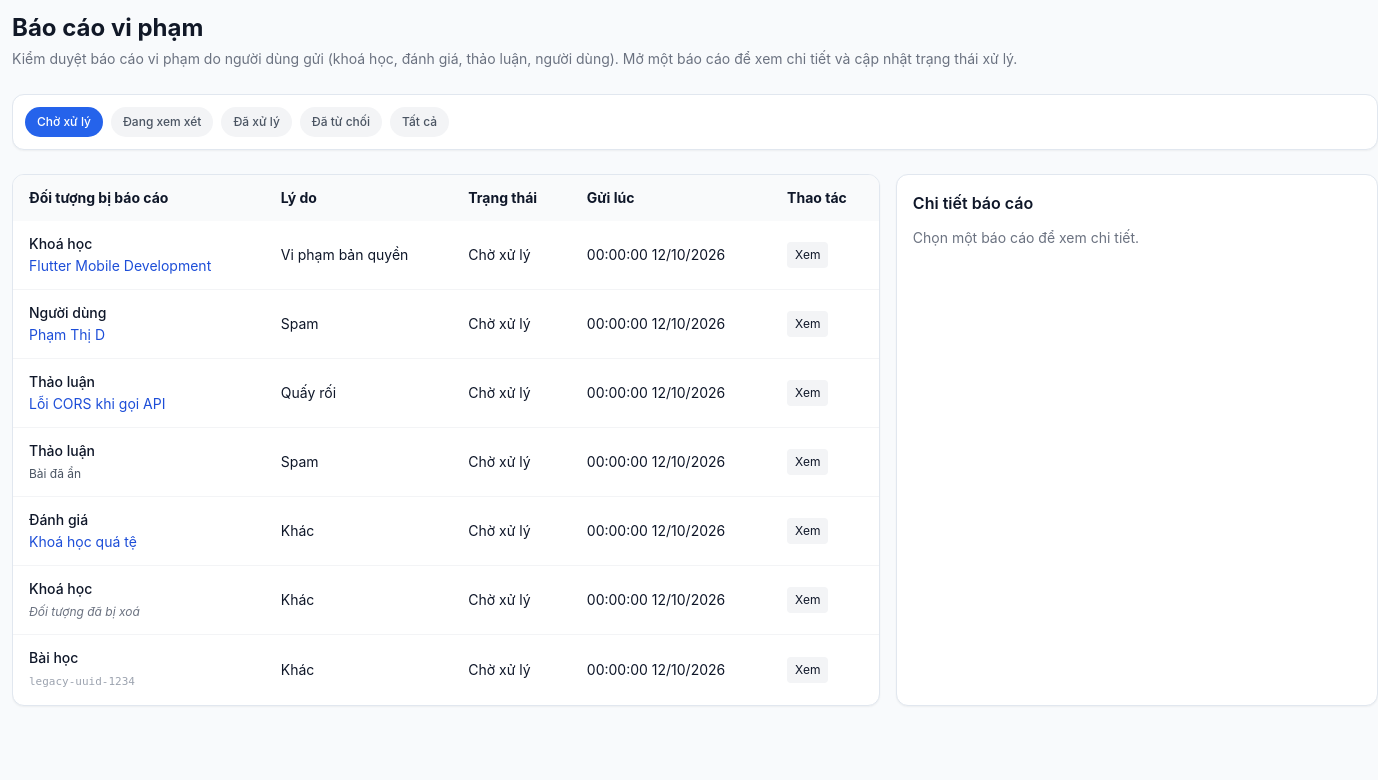
Scenario: /admin/moderation — hành động trên đối tượng (ADM-N4) › các nút trạng thái cũ vẫn còn (đánh dấu đã xử lý / từ chối)
Expected: the link "Flutter Mobile Development" is shown, [29,257,211,274]
Click the button "Xem" in the row of "Flutter Mobile Development" at point(808, 255), box [787,242,828,268]
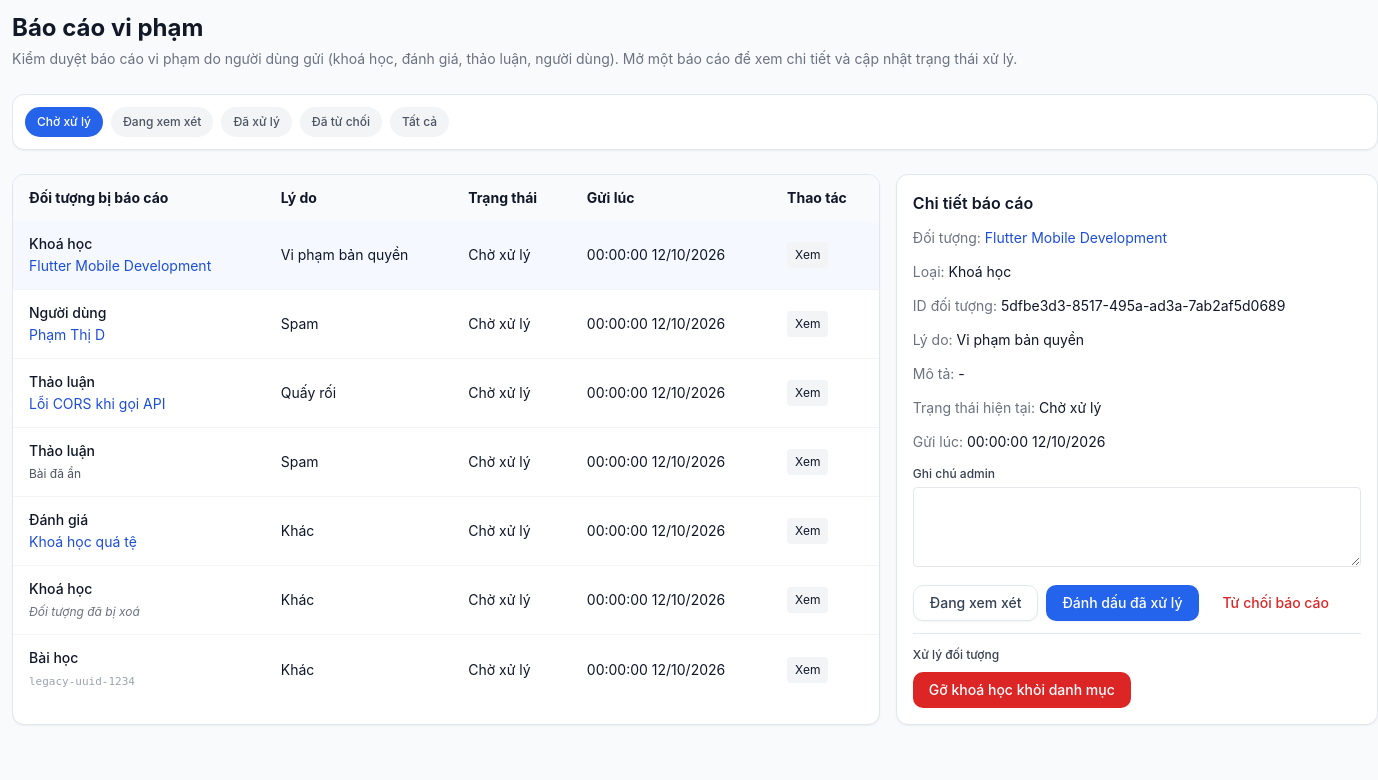
Expected: the button "Đánh dấu đã xử lý" is shown, [1046,585,1198,621]
Expected: the button "Từ chối báo cáo" is shown, [1206,585,1345,621]
